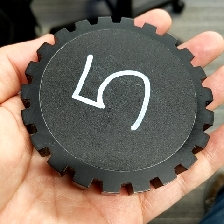gear: (19, 15, 215, 197)
